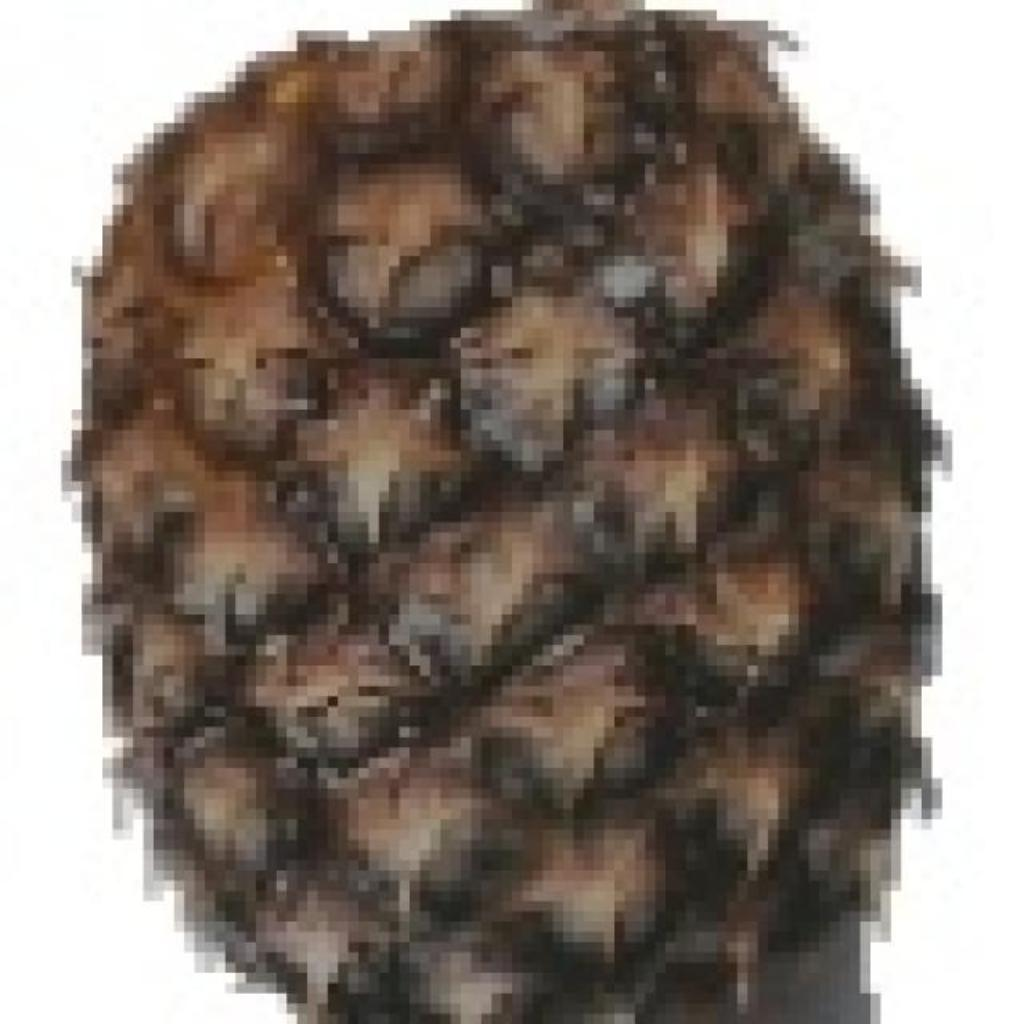pineapple: (72, 0, 940, 1024)
